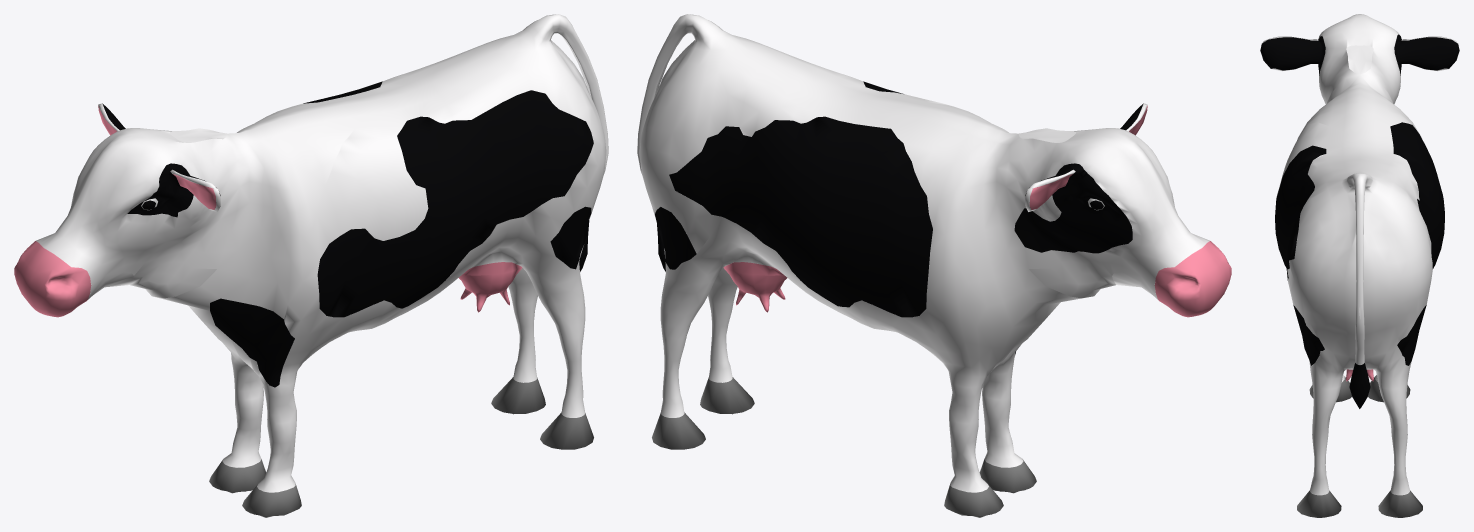
Rendered from vaca-2-771611.glb.
The picture shows the model from 3 angles, left to right: view 1: azimuth 30°, elevation 25°; view 2: azimuth 150°, elevation 25°; view 3: azimuth 270°, elevation 25°; orthographic projection. The views are drawn at different scales.
Parts seen in each view (by area): view 1: Box003_02 - Default_0, Box003_07 - Default_0; view 2: Box003_02 - Default_0, Box003_07 - Default_0; view 3: Box003_02 - Default_0, Box003_07 - Default_0.
Part boxes in pixels (bbox=[...]): Box003_02 - Default_0: bbox=[36, 14, 608, 492]; Box003_07 - Default_0: bbox=[14, 81, 593, 517]; Box003_02 - Default_0: bbox=[637, 14, 1209, 492]; Box003_07 - Default_0: bbox=[652, 81, 1231, 517]; Box003_02 - Default_0: bbox=[1262, 14, 1457, 495]; Box003_07 - Default_0: bbox=[1260, 34, 1459, 517].
Size of the model in its own units: 39.25 by 26.37 by 13.91.
2 materials, 2 textured.
